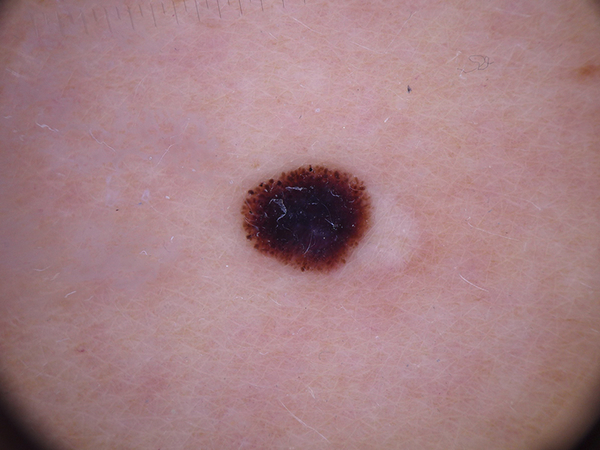Detected Lesion: (239, 161, 378, 278)
